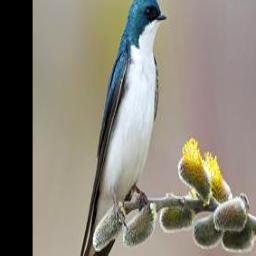Swallow: (71, 0, 167, 256)
